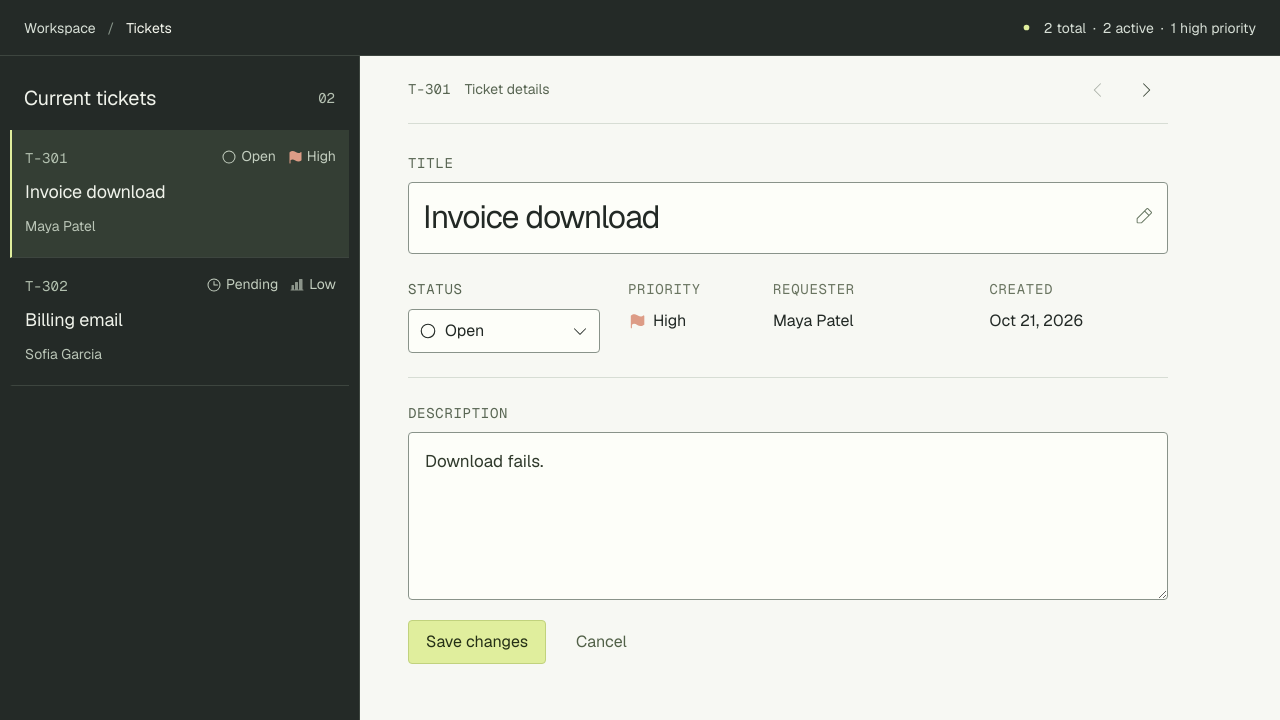
Test: ticket workspace › selects the first ticket and navigates a single editor with disabled end controls
Expected: the text box labelled "Title" holds "Invoice download", [408, 182, 1168, 254]
Expected: the button named "Previous ticket" is disabled, [1076, 68, 1120, 112]
Click the button named "Next ticket" at (1146, 90), box [1124, 68, 1168, 112]
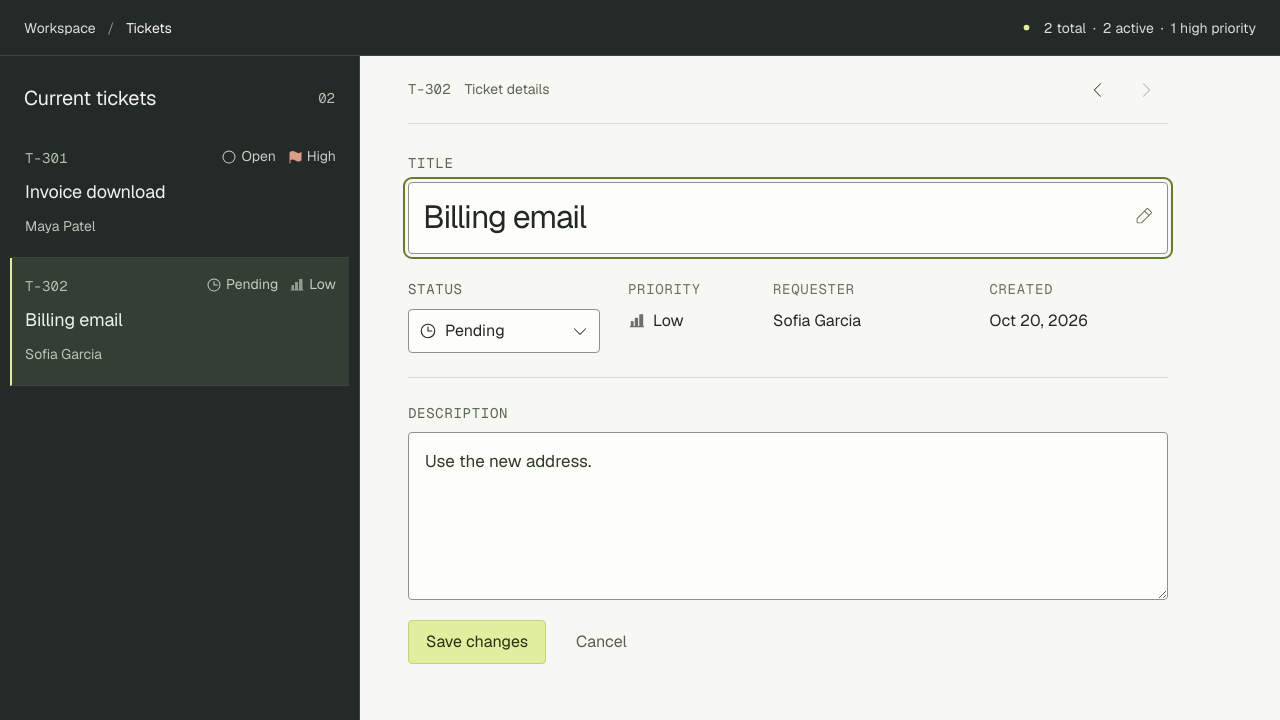
Expected: the text box labelled "Title" holds "Billing email", [408, 182, 1168, 254]
Click the button named "Previous ticket" at (1098, 90), box [1076, 68, 1120, 112]
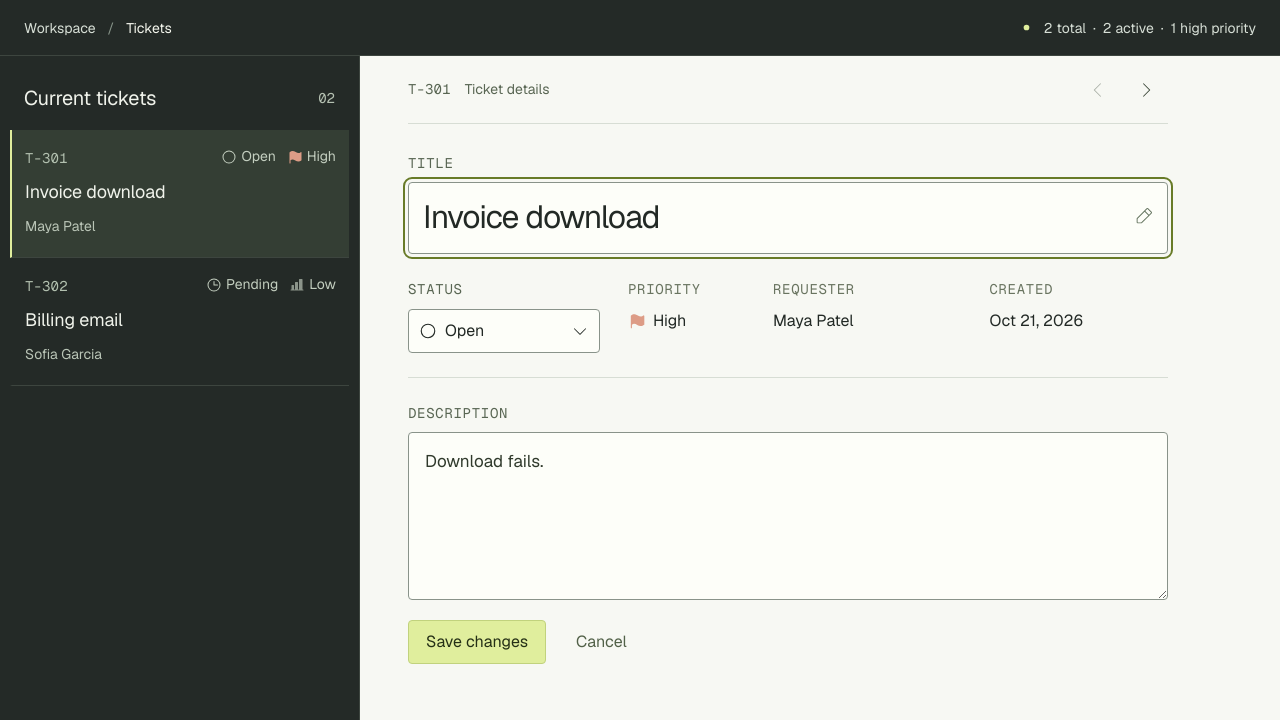
Expected: the text box labelled "Title" holds "Invoice download", [408, 182, 1168, 254]
